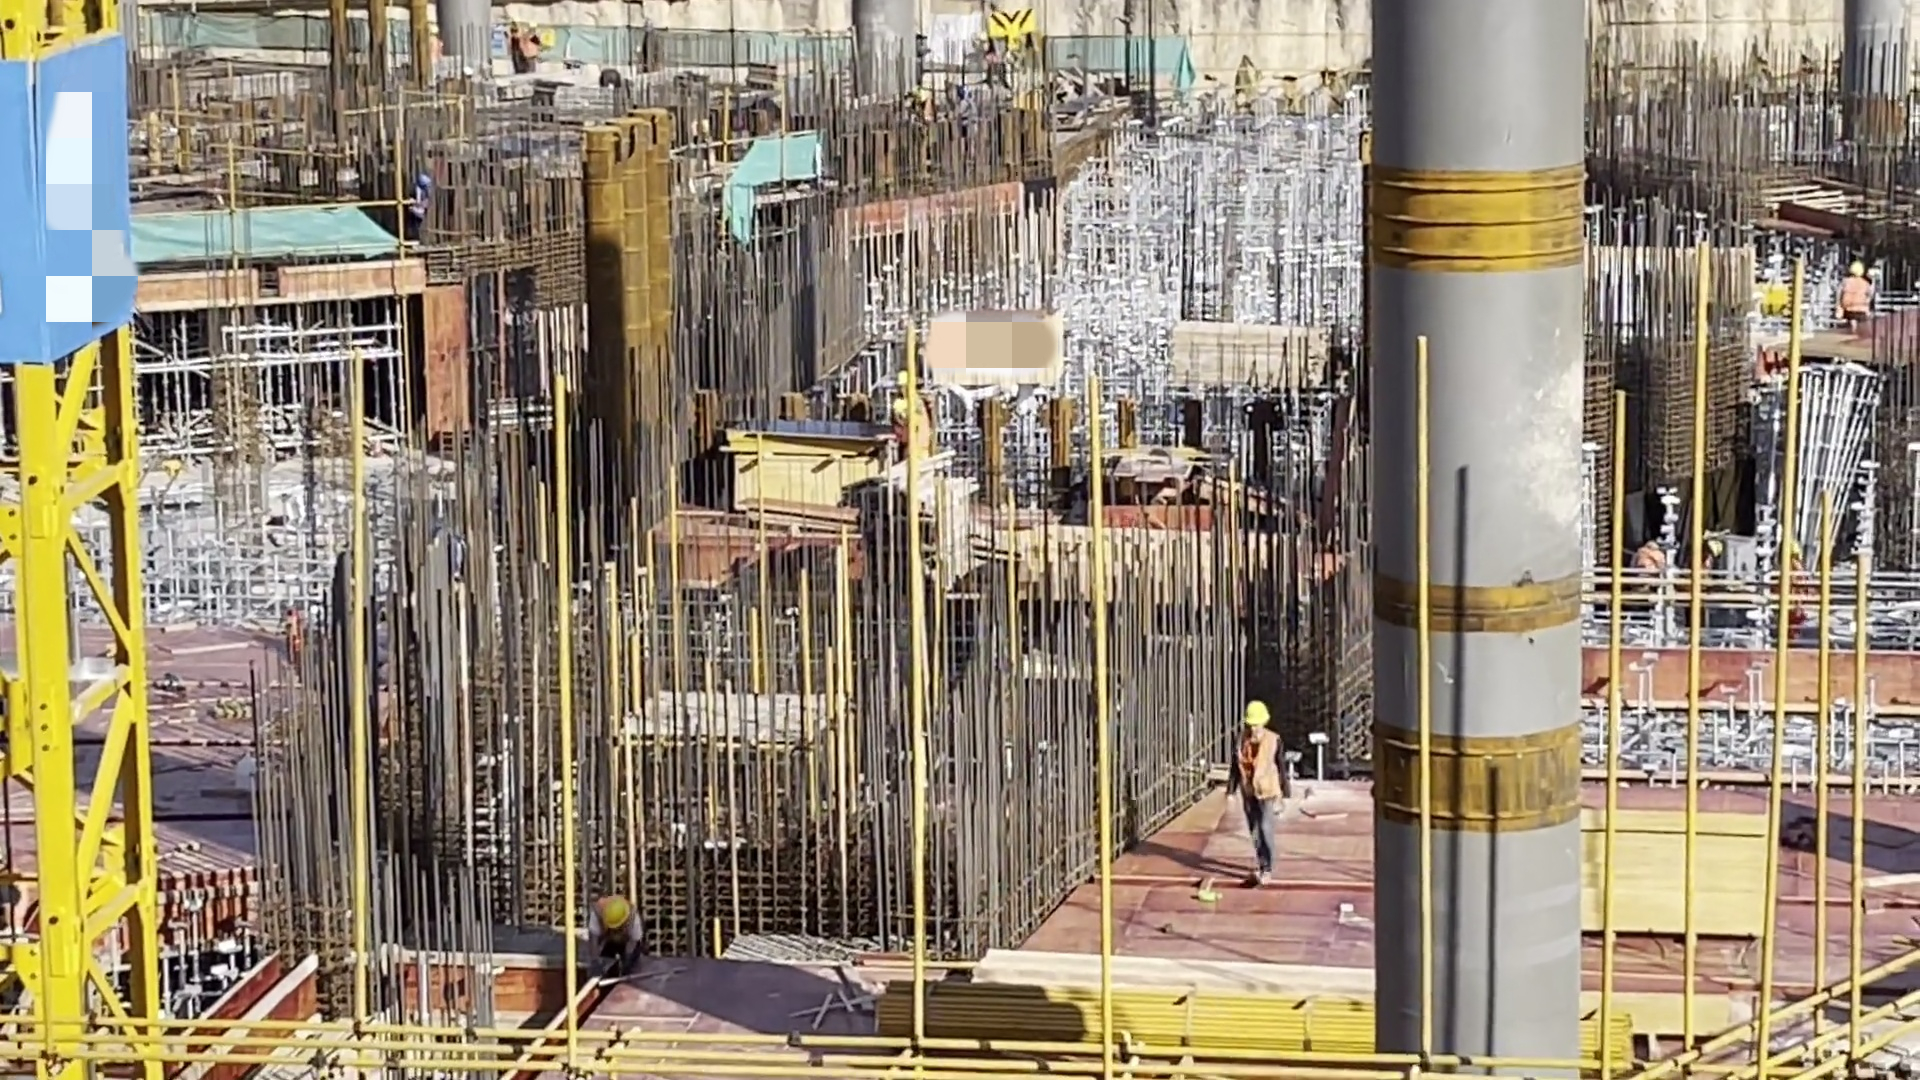helmet: (595, 893, 639, 938), (1242, 697, 1272, 739), (1702, 535, 1729, 566), (1848, 260, 1865, 283), (415, 171, 430, 190)
person: (1230, 695, 1295, 901), (579, 886, 647, 965), (1834, 253, 1884, 341), (895, 368, 941, 458), (1631, 531, 1672, 601), (506, 15, 529, 81), (413, 166, 433, 240), (521, 19, 543, 74)
vest: (1230, 729, 1290, 812), (1838, 279, 1877, 322), (1635, 546, 1668, 574)
